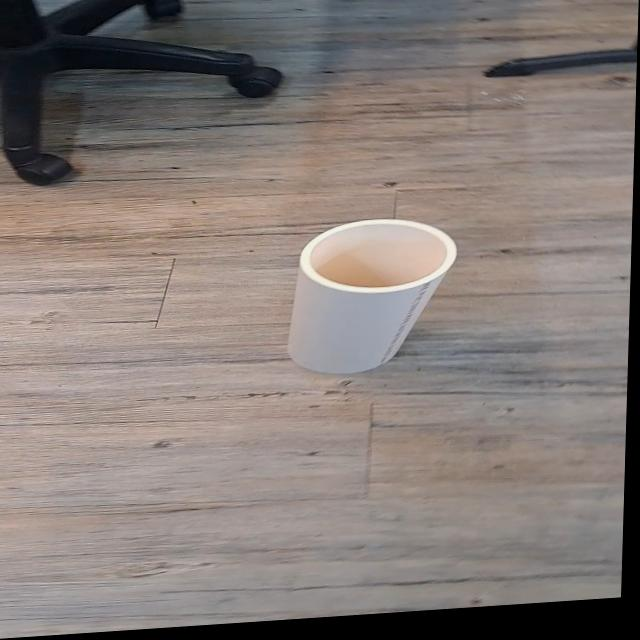CORAL: (281, 207, 468, 388)
